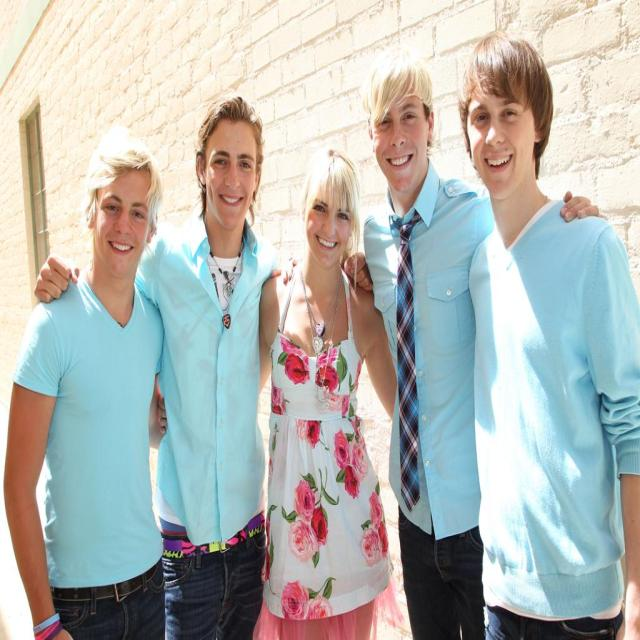Face: (458, 70, 542, 200), (359, 72, 440, 202), (191, 114, 272, 241), (86, 161, 160, 268), (297, 152, 358, 265)
